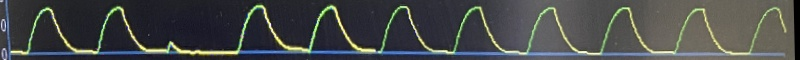normal_volume: (9, 1, 800, 60)
